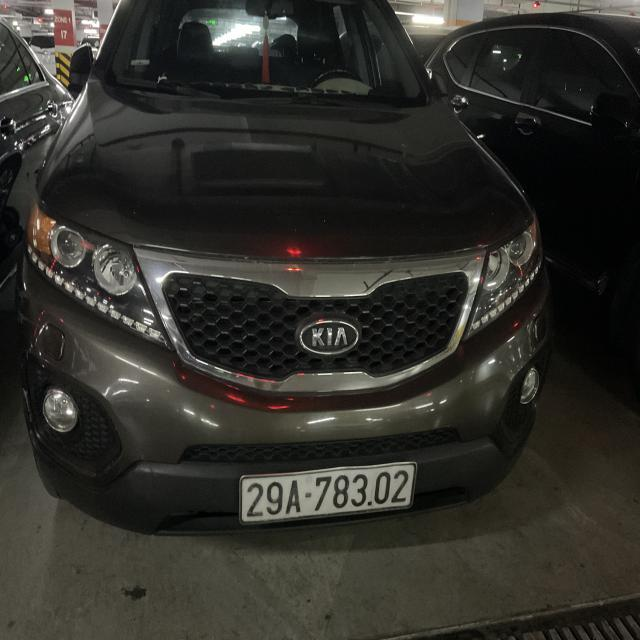license: (238, 460, 417, 524)
